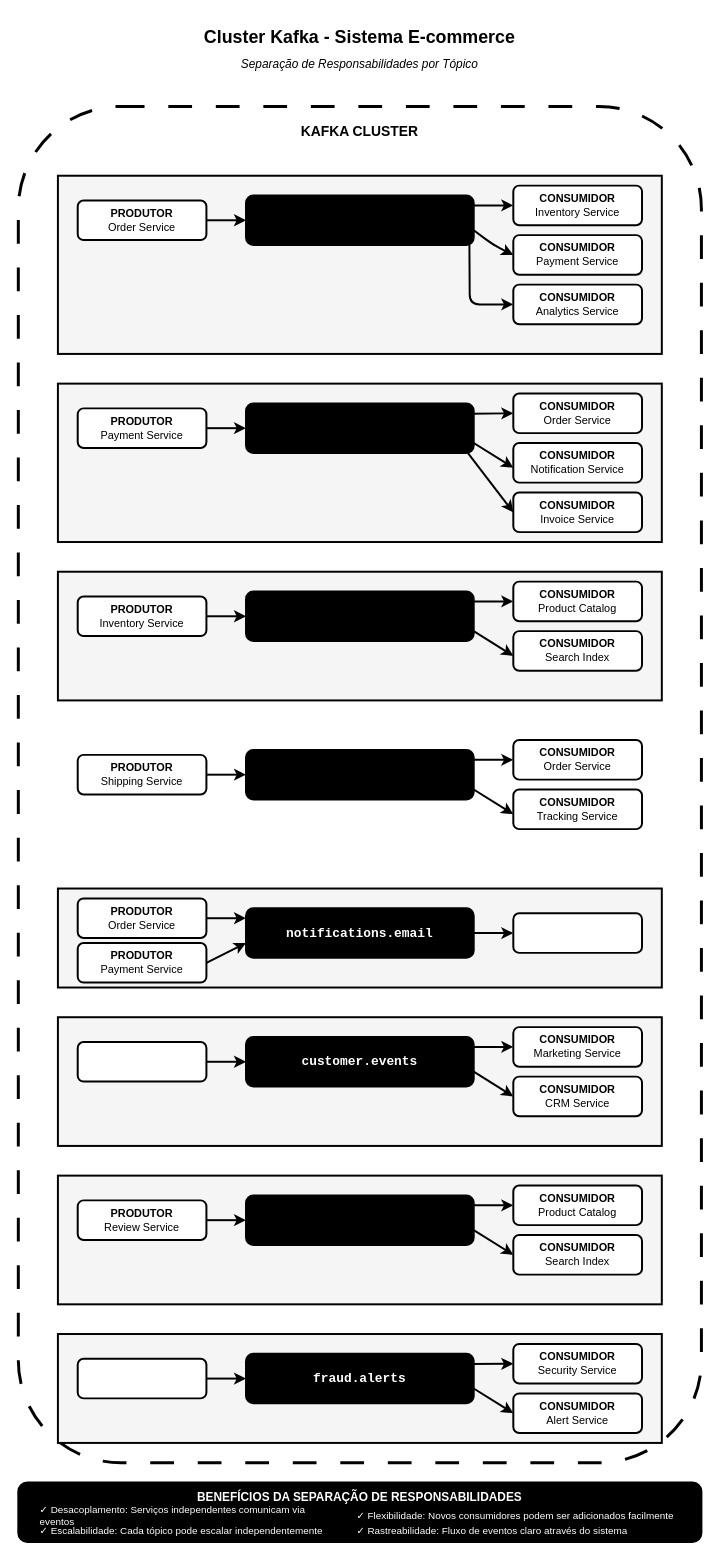
Some shapes in this 720 by 1559 pixel diagram are drawn without their labels. The centre of each missing label's shape, as x and y in pixels:
"CONSUMIDOR Email Service" belongs at point 577,932.
"inventory.updated" belongs at point 359,616.
"orders.created" belongs at point 359,220.
"payments.processed" belongs at point 359,427.
"product.reviews" belongs at point 359,1219.
"PRODUTOR Fraud Detection" belongs at point 141,1378.
"PRODUTOR User Service" belongs at point 141,1061.
"shipping.dispatched" belongs at point 359,774.
